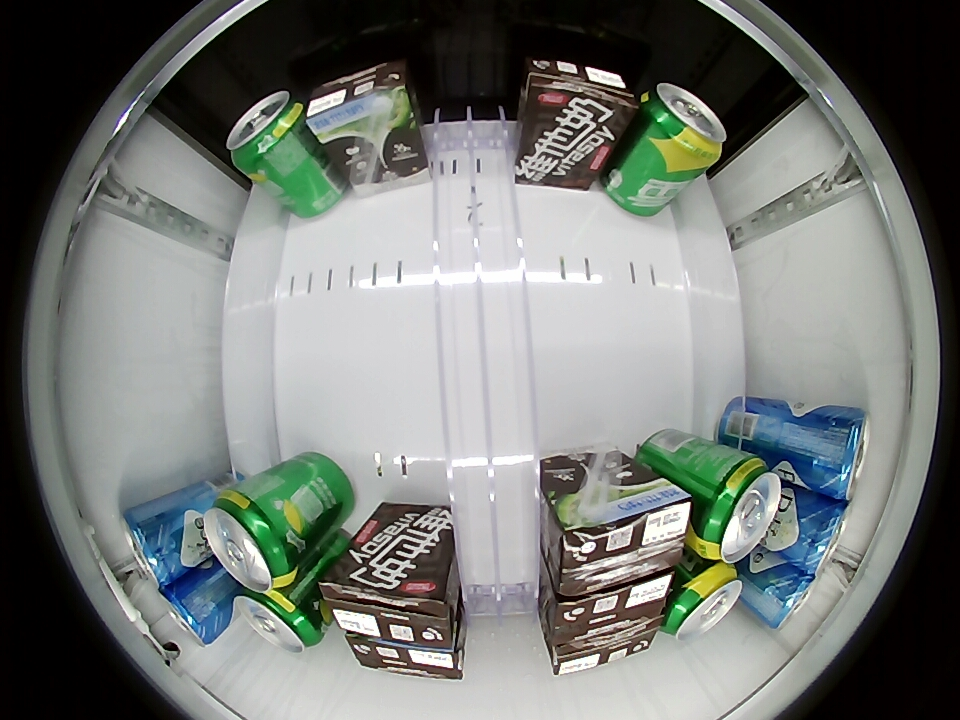qingdaowangzi-2: (806, 408, 870, 501), (121, 503, 188, 588), (787, 491, 851, 575), (157, 575, 231, 645), (754, 562, 820, 629)
weitanai2: (553, 481, 694, 596), (320, 555, 456, 645), (305, 62, 415, 144), (521, 58, 635, 135), (552, 572, 673, 641), (547, 623, 660, 676), (345, 632, 465, 680)
xuebi2: (202, 488, 303, 592), (690, 456, 784, 562), (638, 81, 726, 167), (226, 89, 310, 172), (661, 562, 744, 640), (234, 587, 325, 653)
